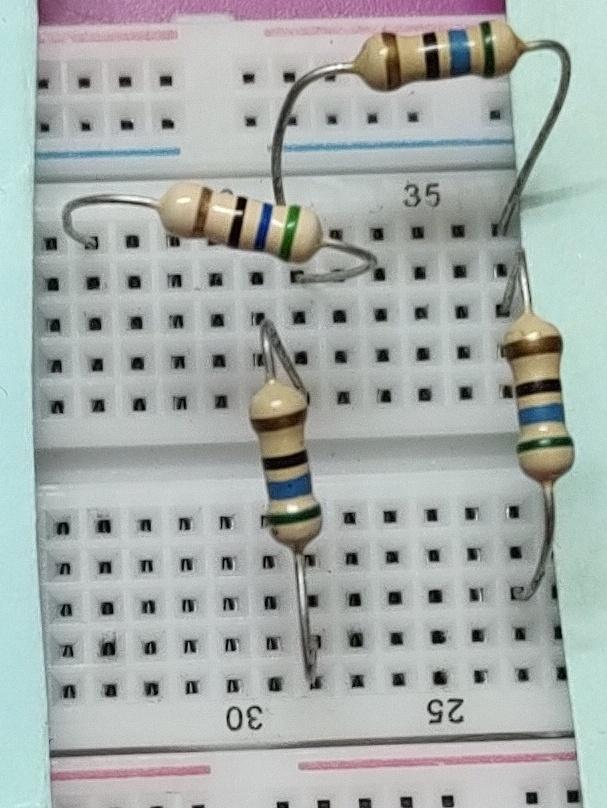resistor: (230, 360, 348, 566), (495, 294, 584, 507), (154, 169, 322, 279), (345, 12, 539, 99)
